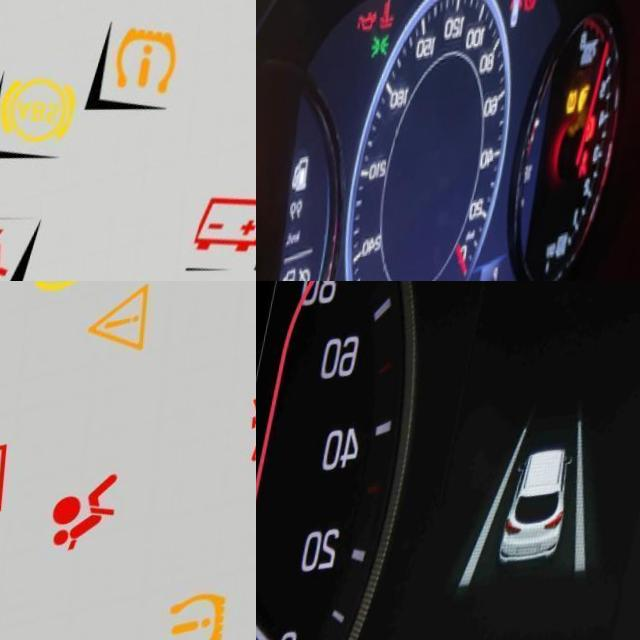High Engine Coolant Temperature: (381, 10, 399, 47)
